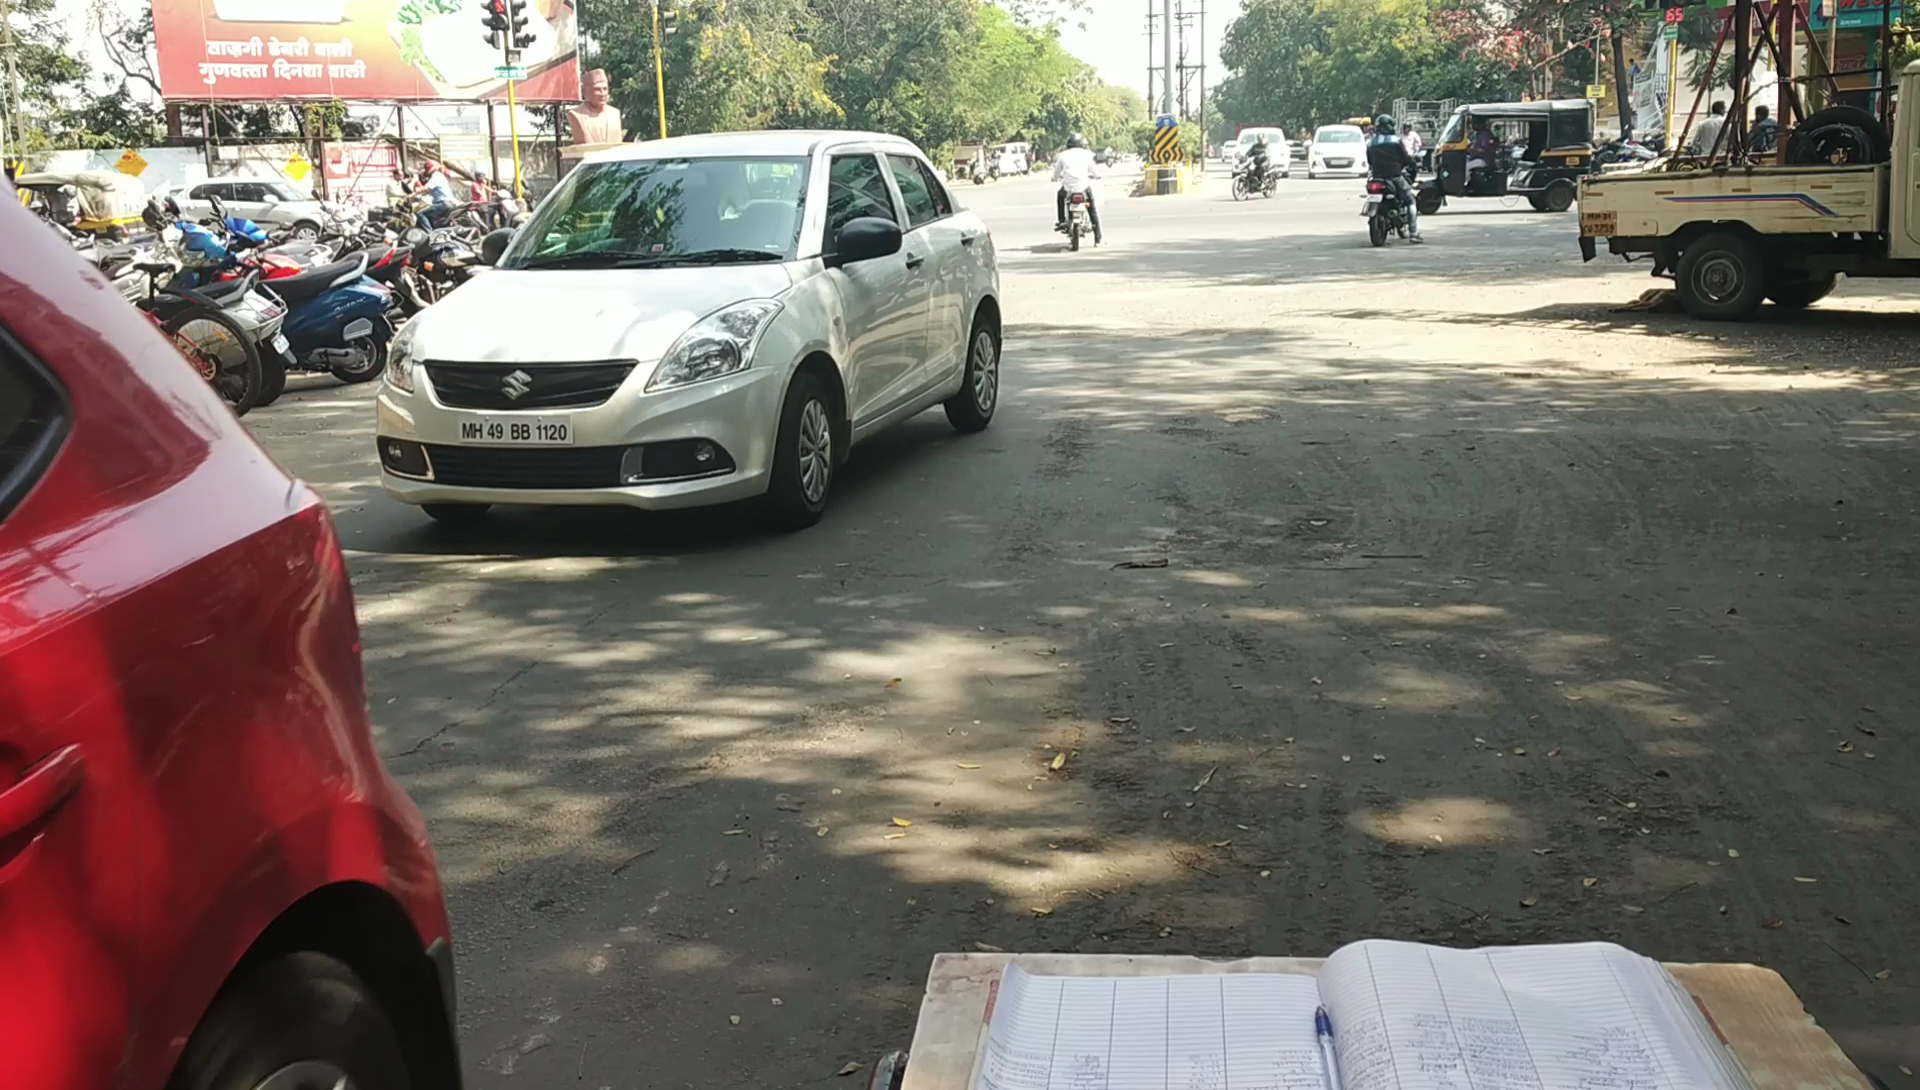car: (370, 112, 1012, 551)
numplate: (452, 407, 589, 460)
